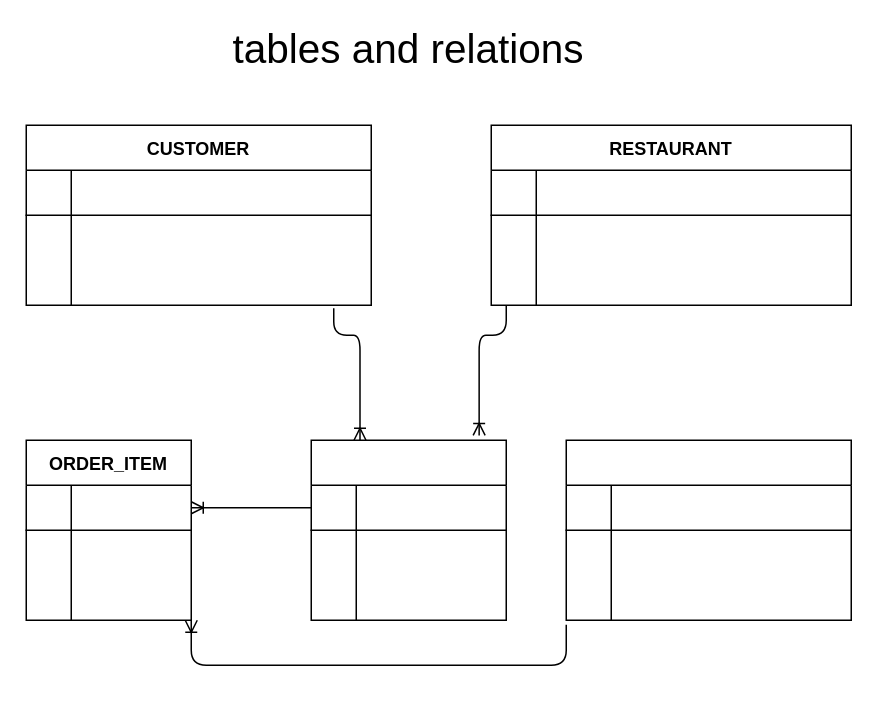
Some shapes in this 878 by 704 pixel diagram are drawn without their labels. Here are the shapes that lost their labels. From the top down, the box of each, then its label:
(310, 439, 506, 620): ORDER
(565, 439, 851, 620): ORDERTABLES
